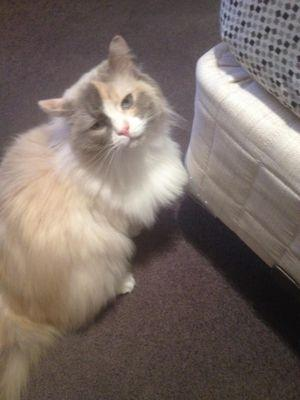ragdoll: (28, 31, 180, 177)
